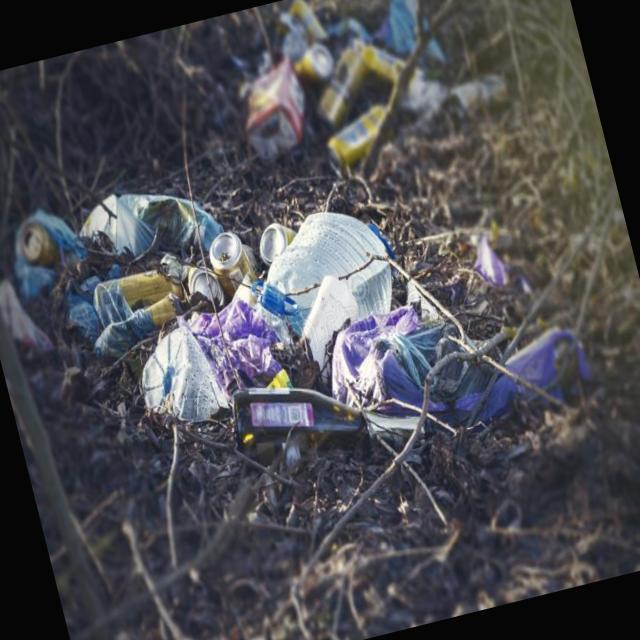garbage: (0, 89, 604, 532)
